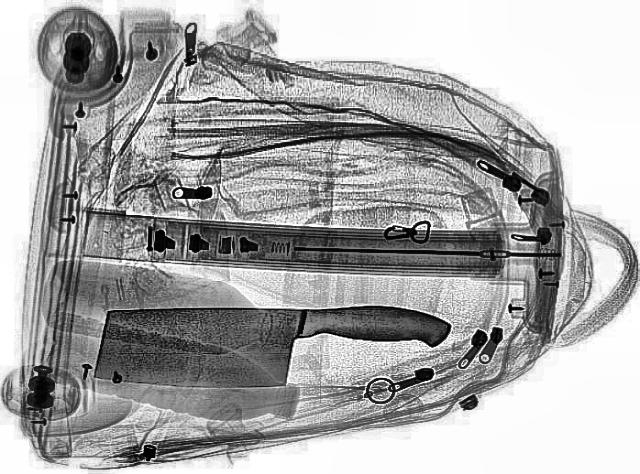Knife: (83, 296, 454, 394)
